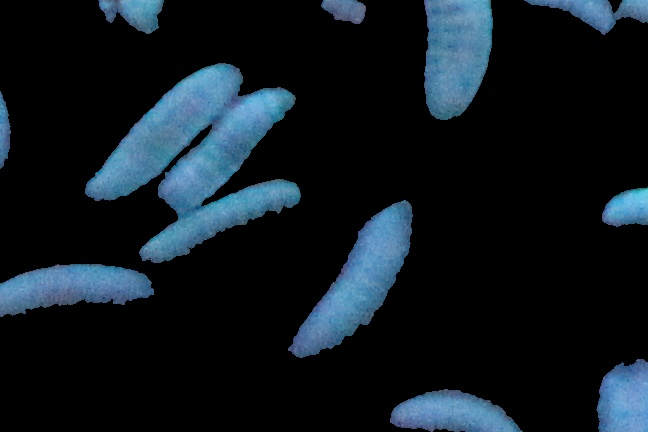larvae: (84, 59, 243, 201), (283, 198, 414, 359), (158, 84, 300, 211), (138, 174, 306, 276), (1, 256, 159, 320), (416, 1, 493, 123), (385, 380, 525, 432), (514, 1, 622, 35)
